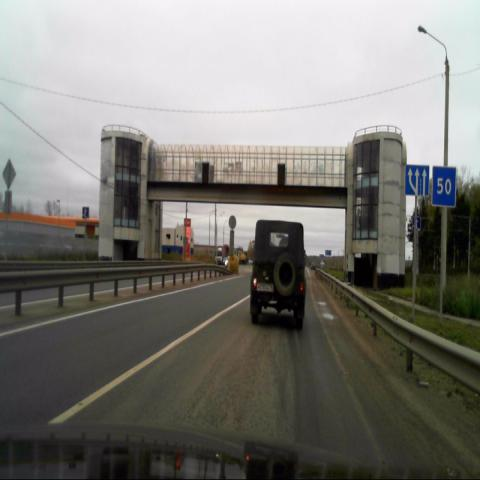5_15_2_2: (405, 164, 429, 194)
6_2: (432, 166, 454, 206)
